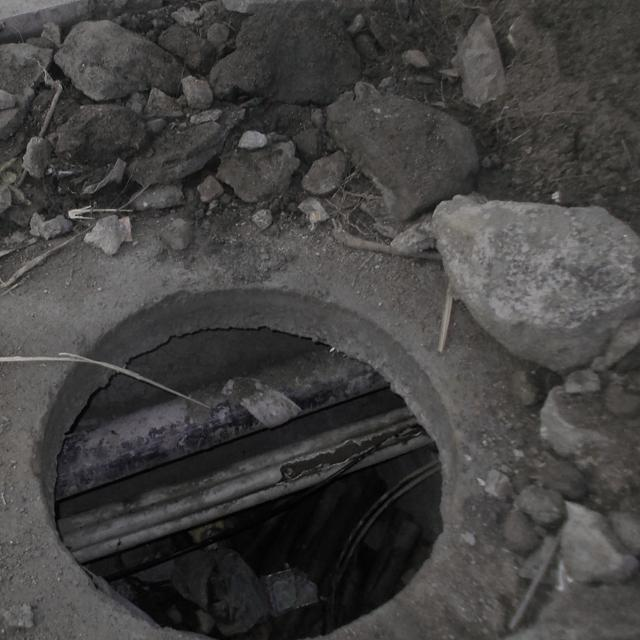lose: (28, 284, 463, 640)
